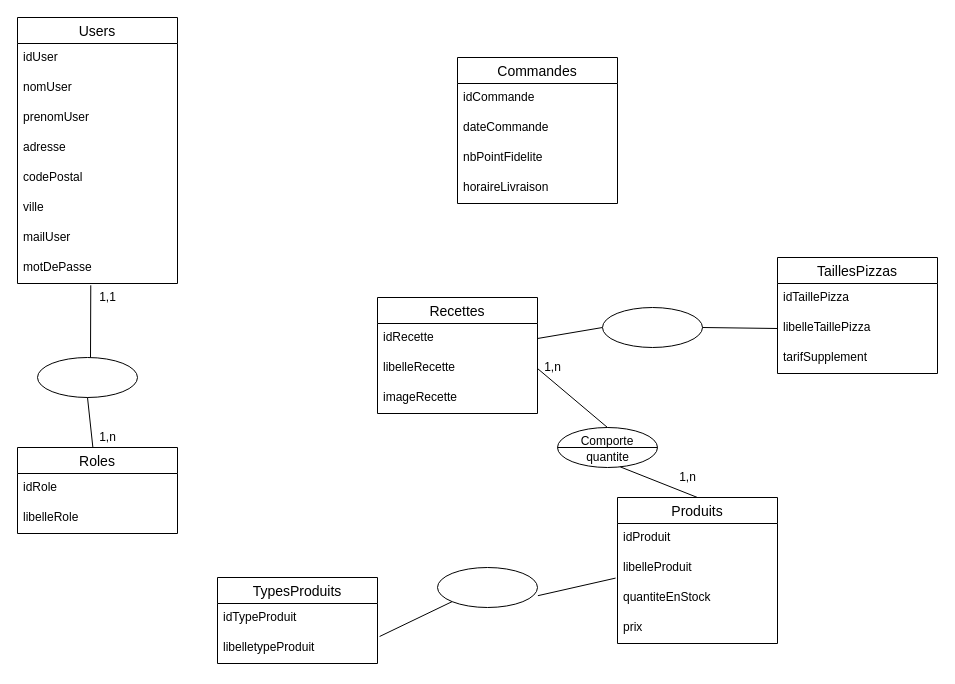
Some shapes in this 955 by 684 pixel diagram are drawn without their labels. Here are the shapes that lost their labels. From the top down, the centre of each, then its label:
At [652,327]: "definit".
At [87,377]: "assigne".
At [487,587]: "designe".
